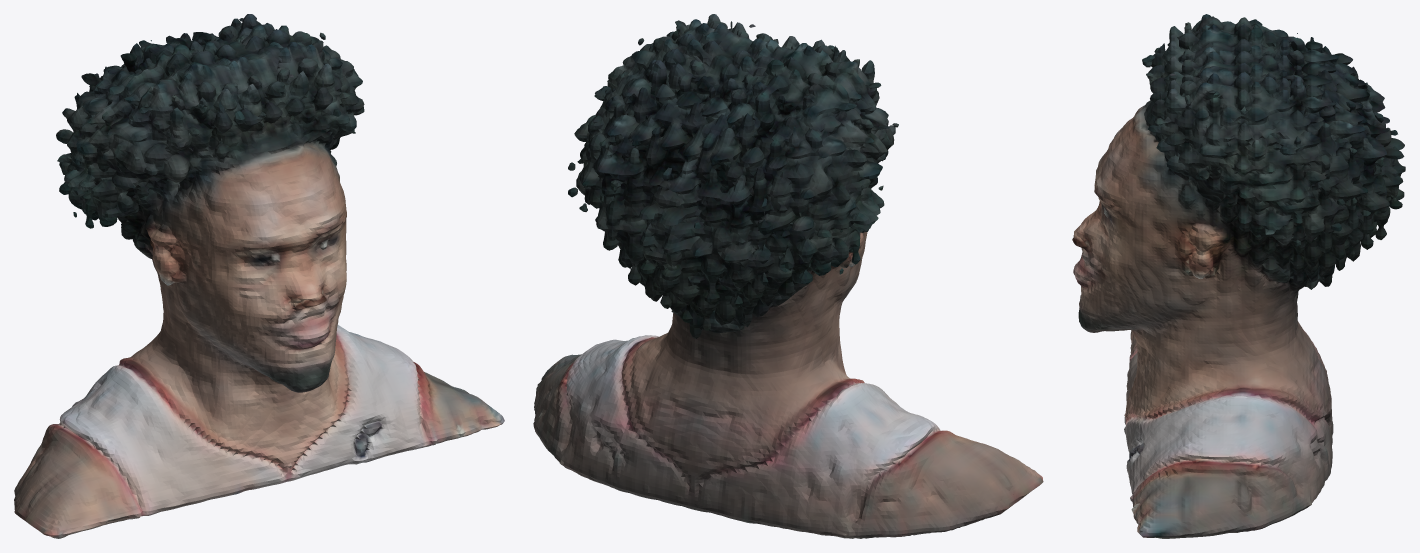
3 views of the same model, side by side, from view 1: azimuth 30°, elevation 25°; view 2: azimuth 150°, elevation 25°; view 3: azimuth 270°, elevation 25° (orthographic). The views are drawn at different scales.
Visible parts, largest first — view 1: geometry_0; view 2: geometry_0; view 3: geometry_0.
Part boxes in pixels (x1,y1,x2,y2): geometry_0: (14, 14, 504, 538); geometry_0: (533, 14, 1043, 538); geometry_0: (1072, 14, 1405, 538).
Bounding box in the file's own units: 1 × 0.866 × 0.6505.
